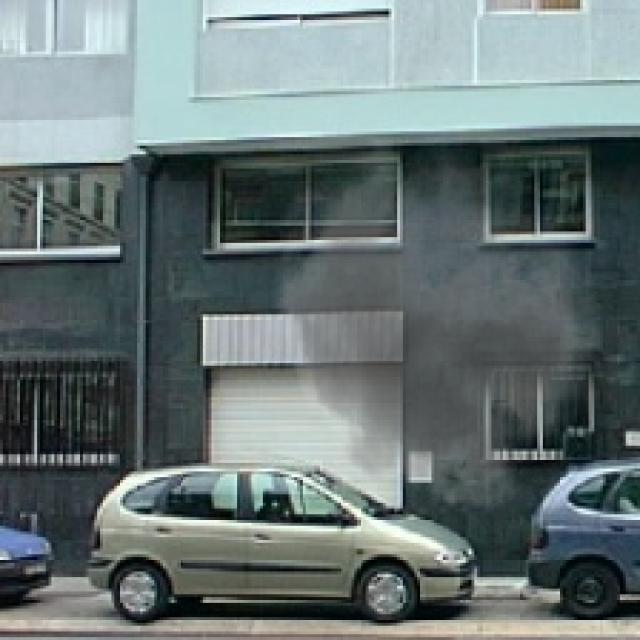smoke: (260, 120, 603, 529)
